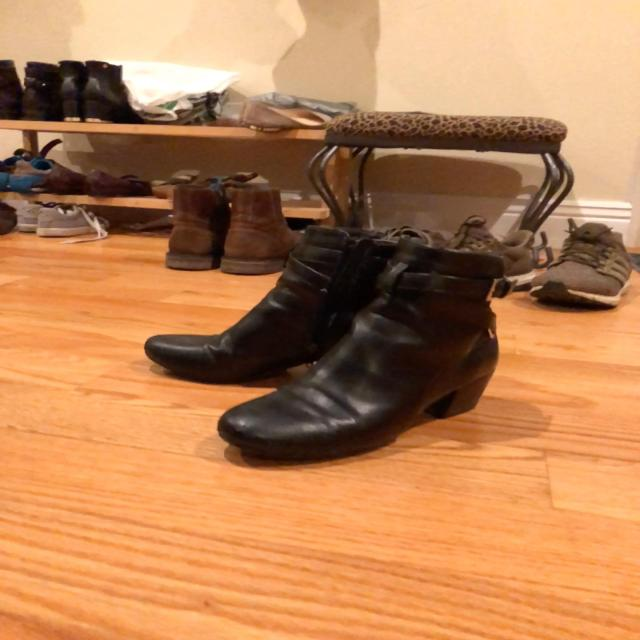shoe: (217, 251, 500, 453), (527, 221, 634, 310)
